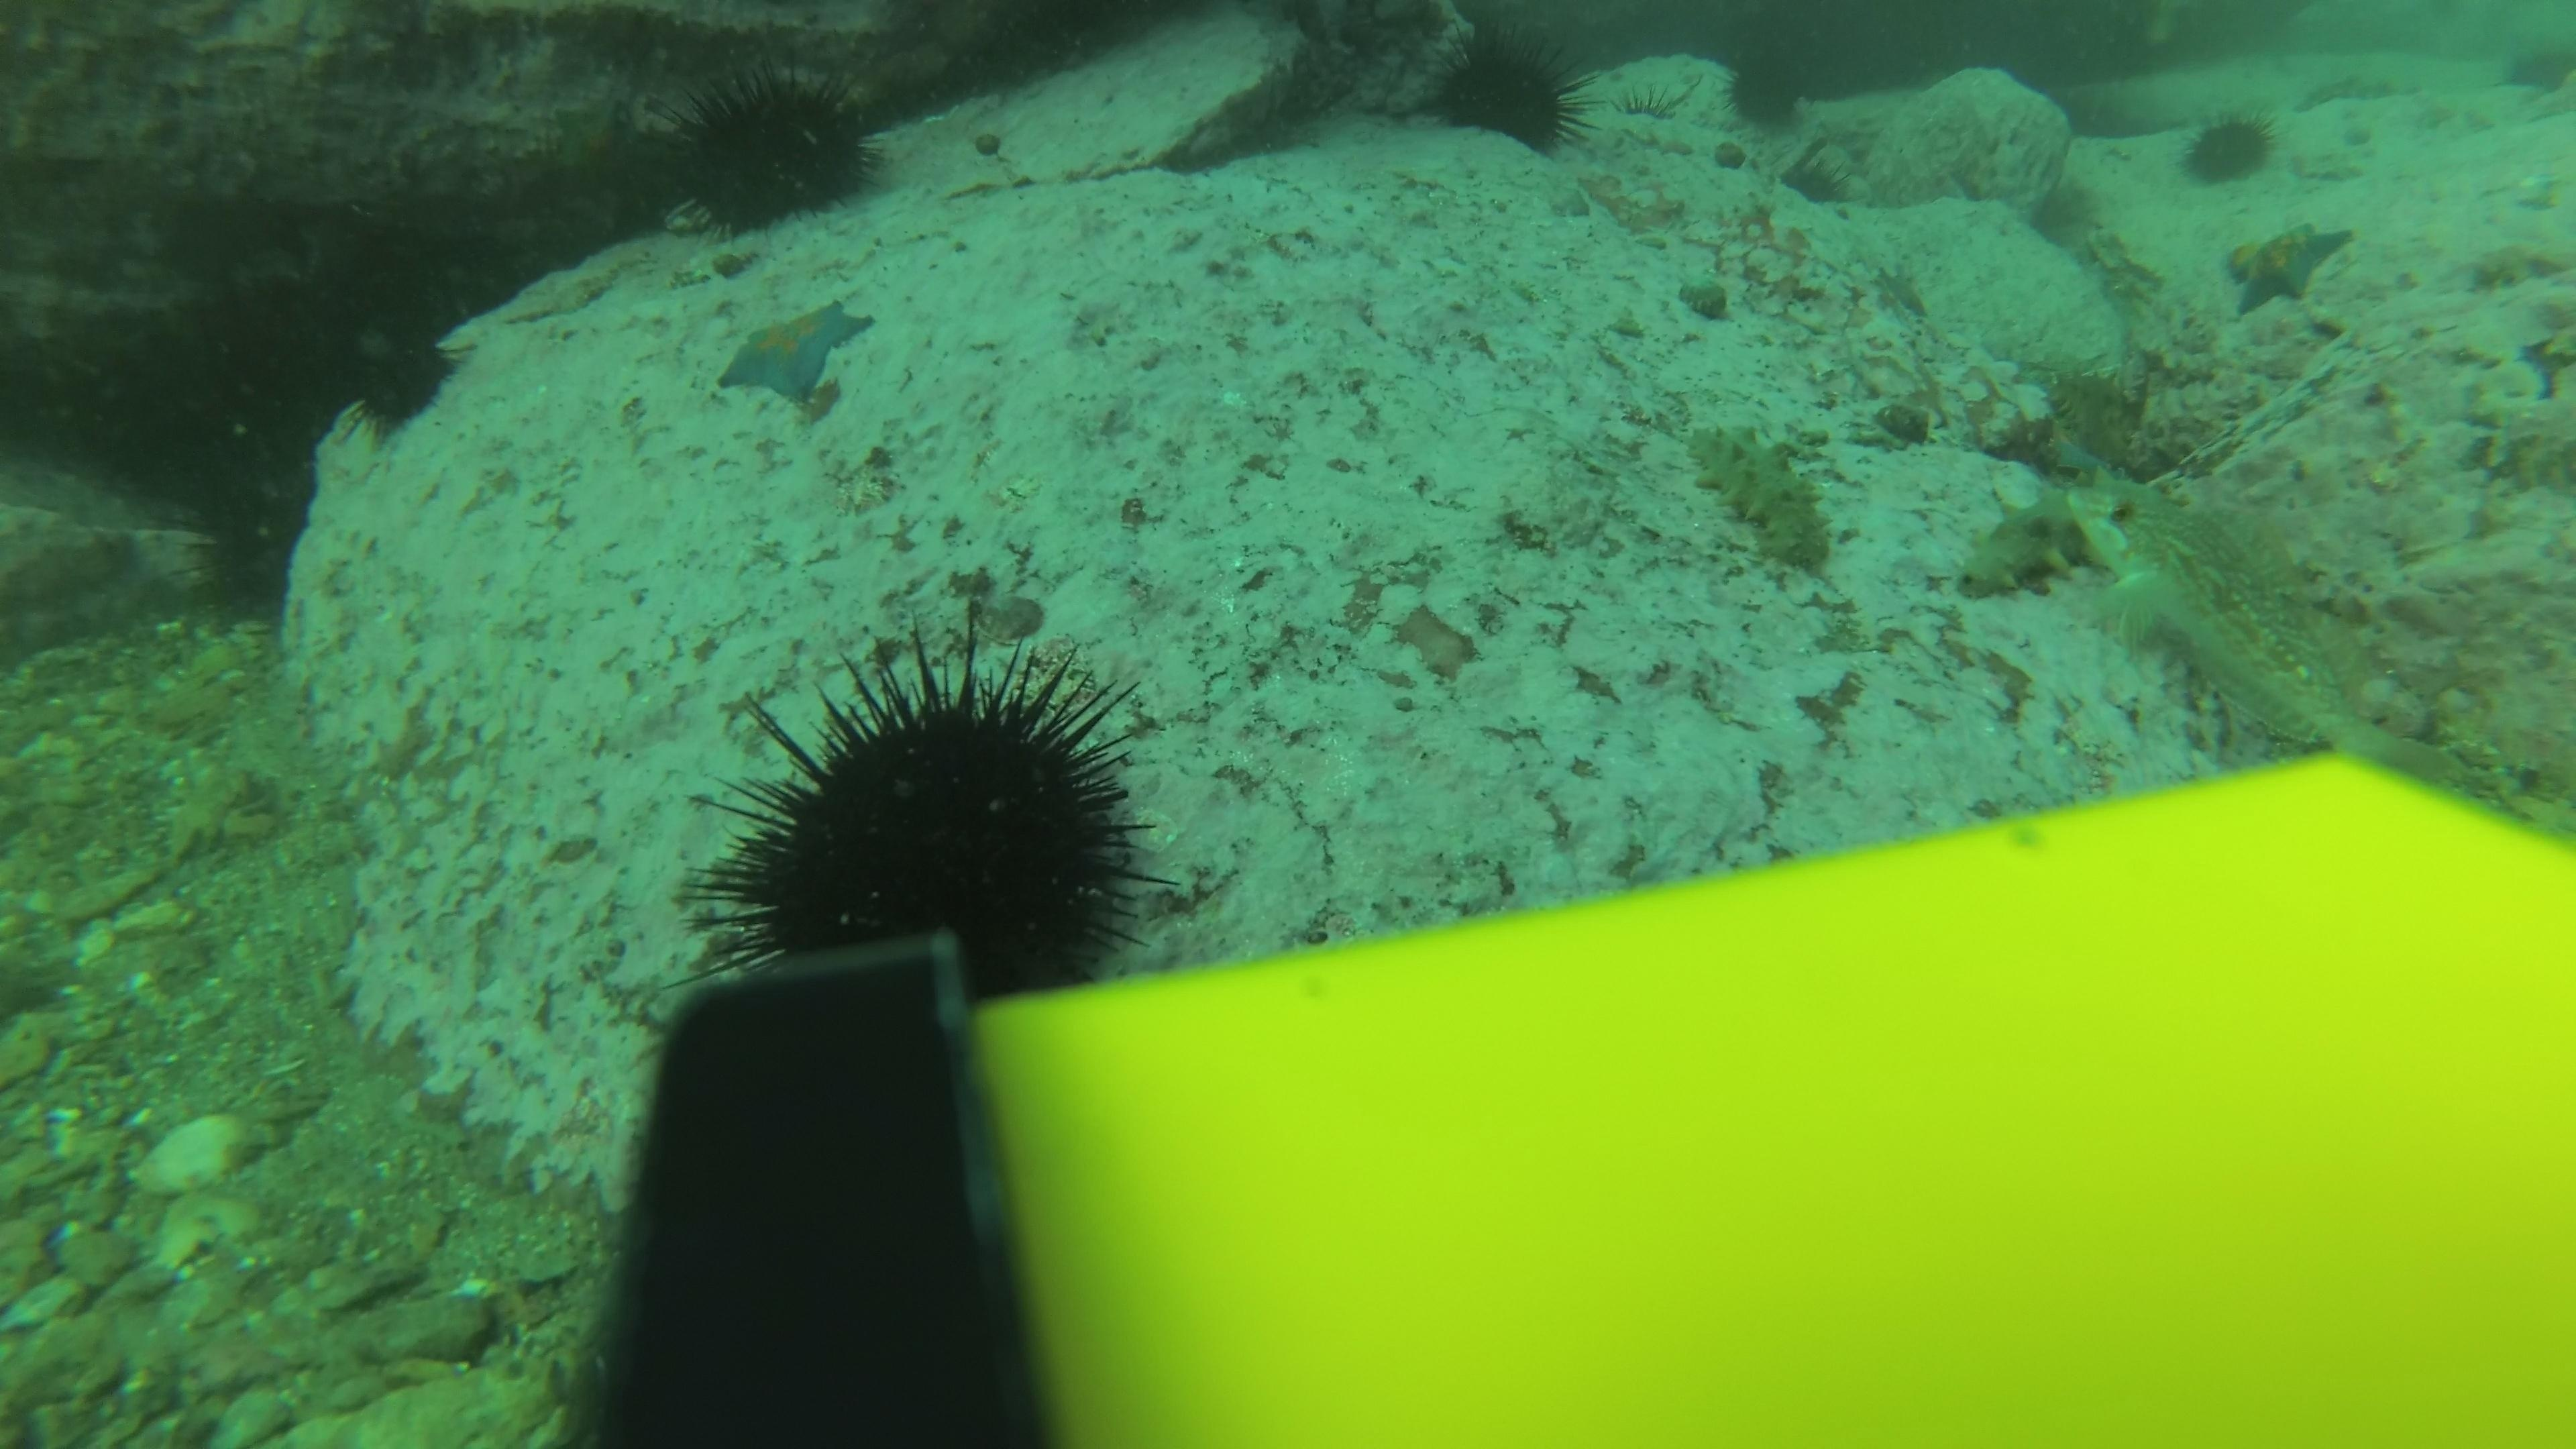echinus: (697, 635, 1161, 1001), (658, 62, 888, 239), (1421, 23, 1596, 157), (184, 467, 326, 625), (334, 301, 467, 439), (2176, 103, 2282, 189), (1716, 44, 1817, 134)
holothurian: (1684, 419, 1844, 580), (1948, 474, 2104, 614), (2029, 359, 2157, 471), (1668, 272, 1737, 326)
starfish: (711, 294, 878, 409), (2220, 216, 2358, 318), (543, 90, 655, 193), (2029, 414, 2123, 488)
